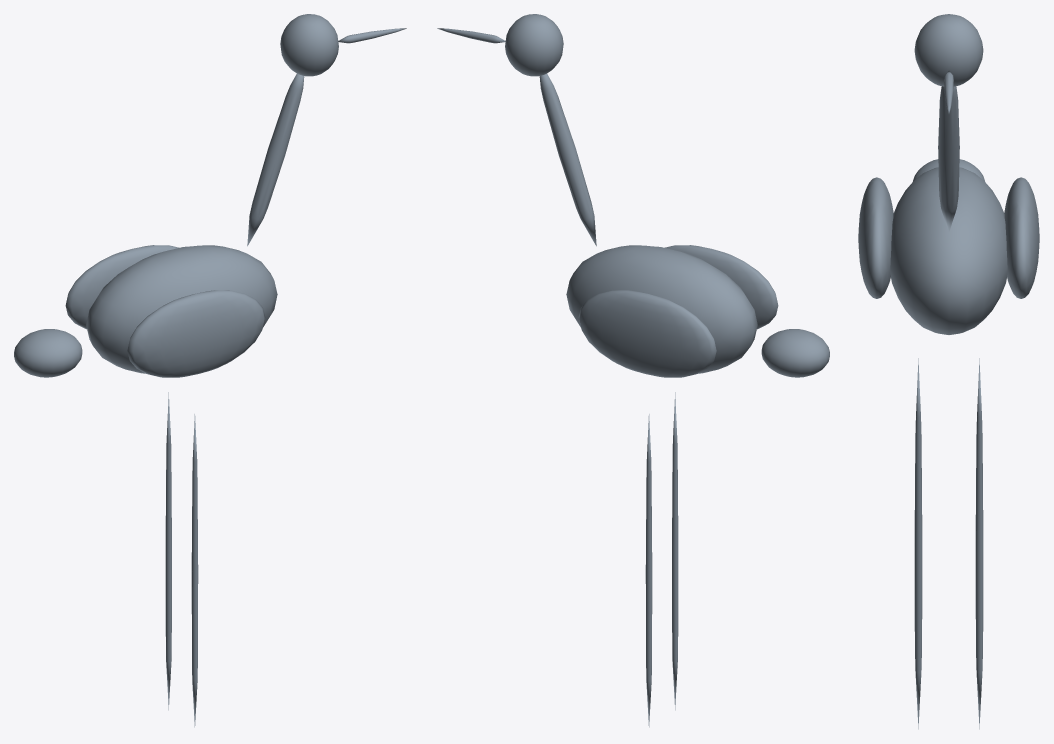
The model's file is heron.fbx.
3 views of the same model, side by side, from view 1: azimuth 30°, elevation 25°; view 2: azimuth 150°, elevation 25°; view 3: azimuth 270°, elevation 25° (orthographic). The views are drawn at different scales.
Parts seen in each view (by area): view 1: heron; view 2: heron; view 3: heron.
Part boxes in pixels (box(x1,y1,x2,y2)): heron: box(14, 14, 406, 727); heron: box(437, 14, 829, 727); heron: box(858, 14, 1039, 729).
Bounding box in the file's own units: 20.93 × 60.74 × 100.
Materials: 1 (1 with a texture image).
